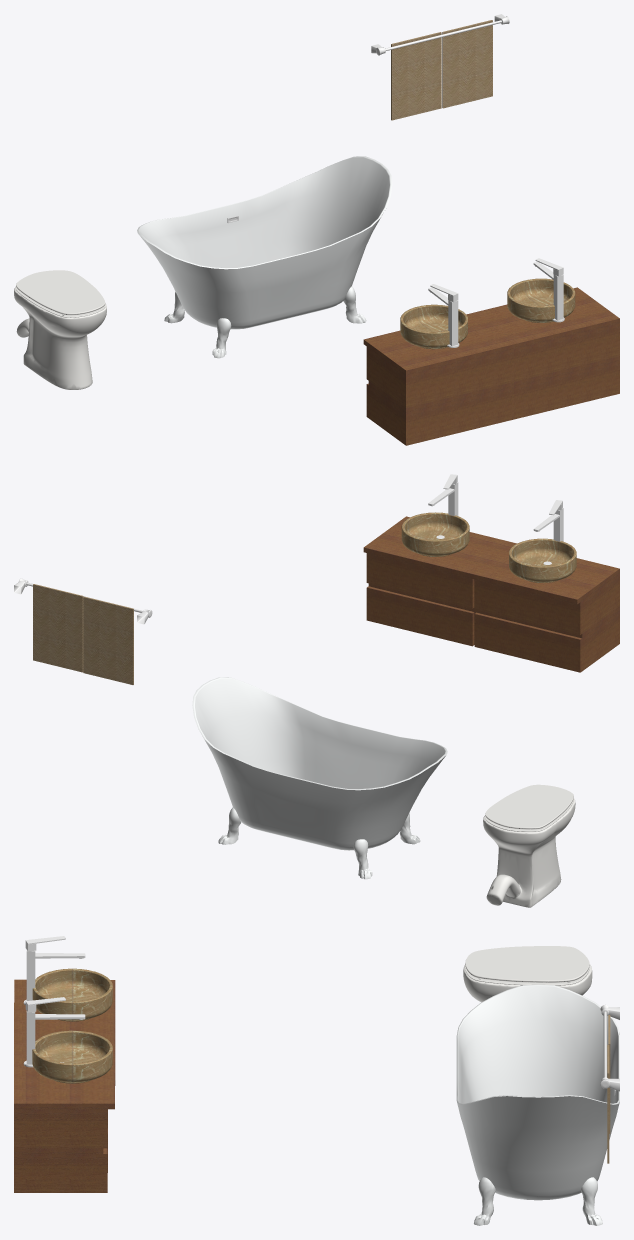
File: bathroom_fixtures.glb
The picture shows the model from 3 angles, top to bottom: view 1: azimuth 30°, elevation 25°; view 2: azimuth 150°, elevation 25°; view 3: azimuth 270°, elevation 25°; orthographic projection. The views are drawn at different scales.
Visible parts, largest first — view 1: material-0 (×8), material-1 (×2); view 2: material-0 (×7), material-1 (×2); view 3: material-0 (×6), material-1 (×2).
Boxes of the visible parts, x1,y1,x2,y2 form: material-0 (×8): (14,14,619,445); material-1 (×2): (400,278,575,349); material-0 (×7): (33,474,619,907); material-1 (×2): (401,512,576,583); material-0 (×6): (14,936,619,1225); material-1 (×2): (32,968,112,1083).
Bounding box in the file's own units: 3.51 × 1.43 × 3.04.
7 materials, 3 textured.
